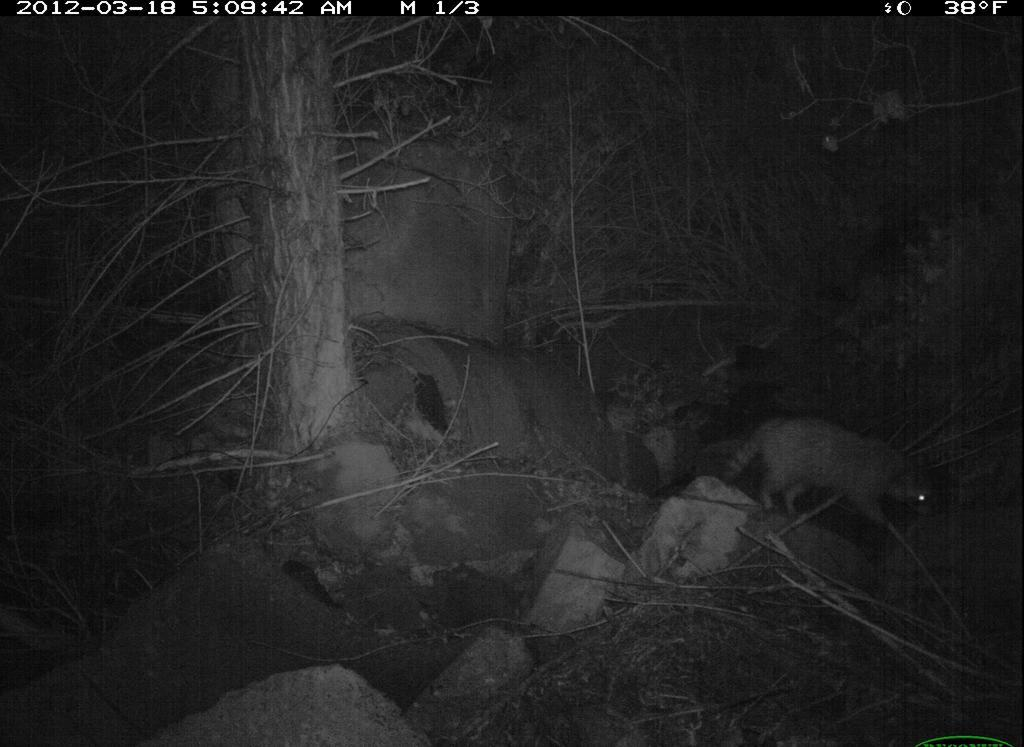raccoon: (713, 402, 946, 543)
